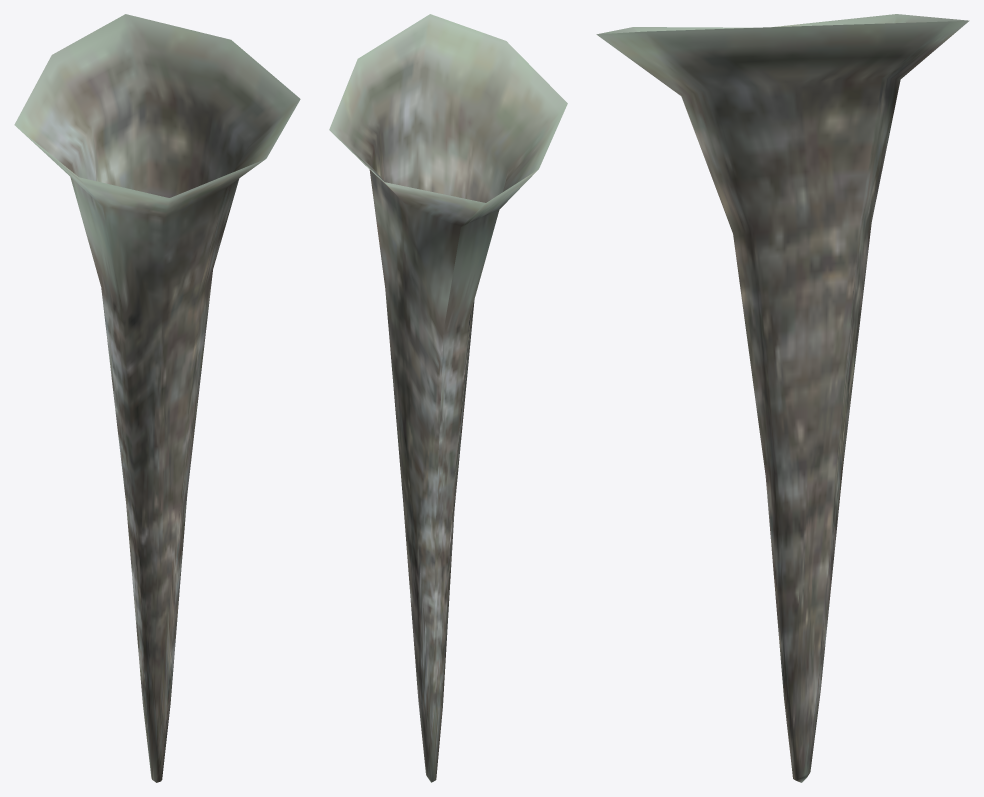
File: TROLLHOLE02_PS-MAINSTALAG26.fbx
The picture shows the model from 3 angles, left to right: view 1: azimuth 30°, elevation 25°; view 2: azimuth 150°, elevation 25°; view 3: azimuth 270°, elevation 25°; orthographic projection. The views are drawn at different scales.
Visible parts, largest first — view 1: TROLLHOLE02_PS-MAINSTALAG26; view 2: TROLLHOLE02_PS-MAINSTALAG26; view 3: TROLLHOLE02_PS-MAINSTALAG26.
Part boxes in pixels (box(x1,y1,x2,y2)): TROLLHOLE02_PS-MAINSTALAG26: box(14, 14, 300, 782); TROLLHOLE02_PS-MAINSTALAG26: box(329, 14, 567, 782); TROLLHOLE02_PS-MAINSTALAG26: box(596, 14, 969, 782).
Bounding box in the file's own units: 8112 × 32219 × 13690.
Materials: 1 (1 with a texture image).
